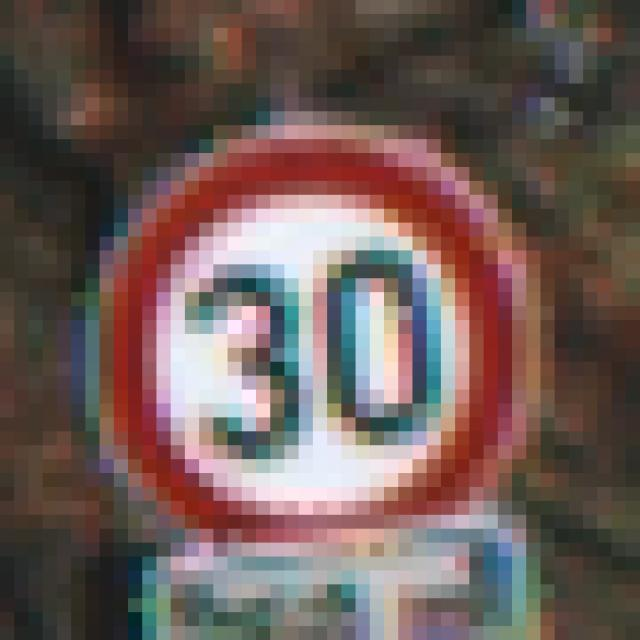Speed Limit -30-: (64, 77, 548, 550)
